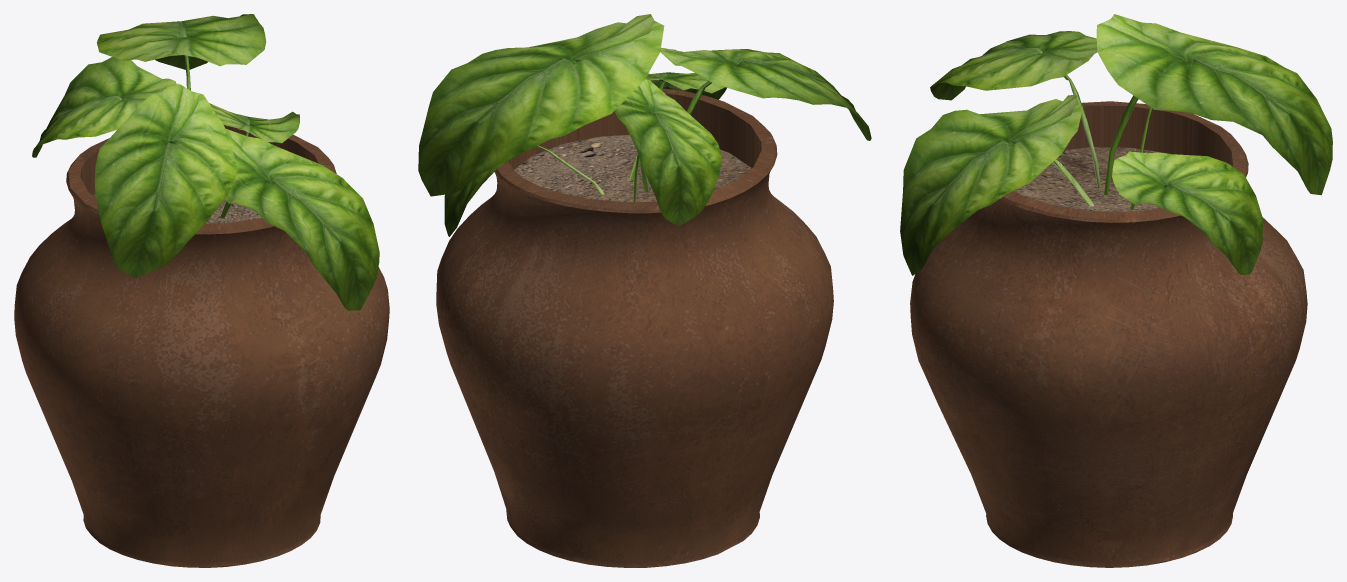
Rendered from Plant 5.FBX.
3 views of the same model, side by side, from view 1: azimuth 30°, elevation 25°; view 2: azimuth 150°, elevation 25°; view 3: azimuth 270°, elevation 25° (orthographic). The views are drawn at different scales.
Visible parts, largest first — view 1: plant 5, leaves; view 2: plant 5, leaves; view 3: plant 5, leaves.
Part boxes in pixels (box(x1,y1,x2,y2)): plant 5: box(14, 125, 389, 567); leaves: box(32, 14, 379, 310); plant 5: box(436, 88, 833, 567); leaves: box(418, 14, 871, 236); plant 5: box(910, 101, 1307, 567); leaves: box(900, 14, 1332, 275).
Bounding box in the file's own units: 600 × 830 × 669.
Materials: 2 (2 with a texture image).
